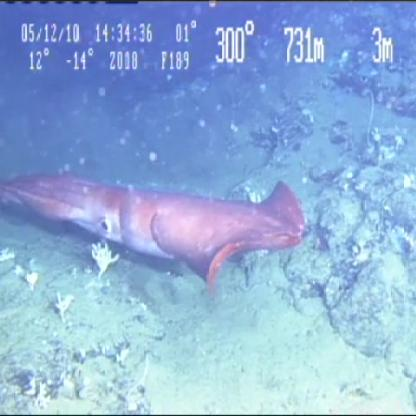Bio: (1, 171, 311, 306), (87, 239, 121, 283), (51, 289, 80, 325)
